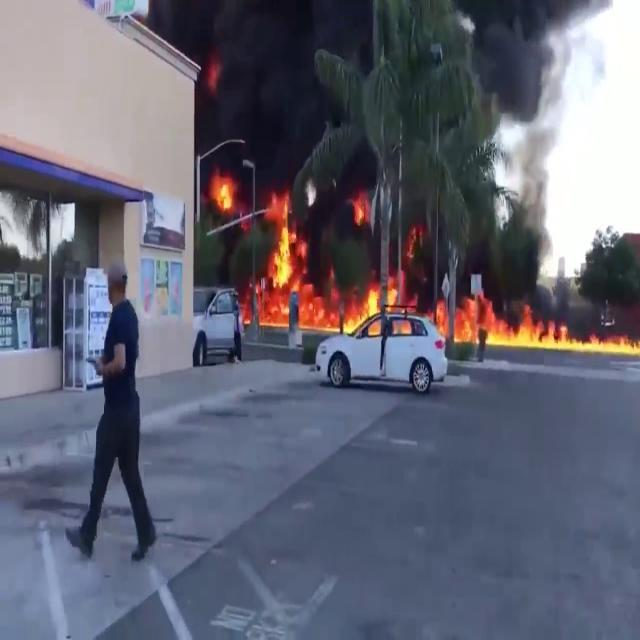Fire: (246, 187, 406, 331), (436, 305, 640, 359), (208, 166, 238, 216)
Smoke: (410, 1, 570, 300), (167, 0, 356, 167)
